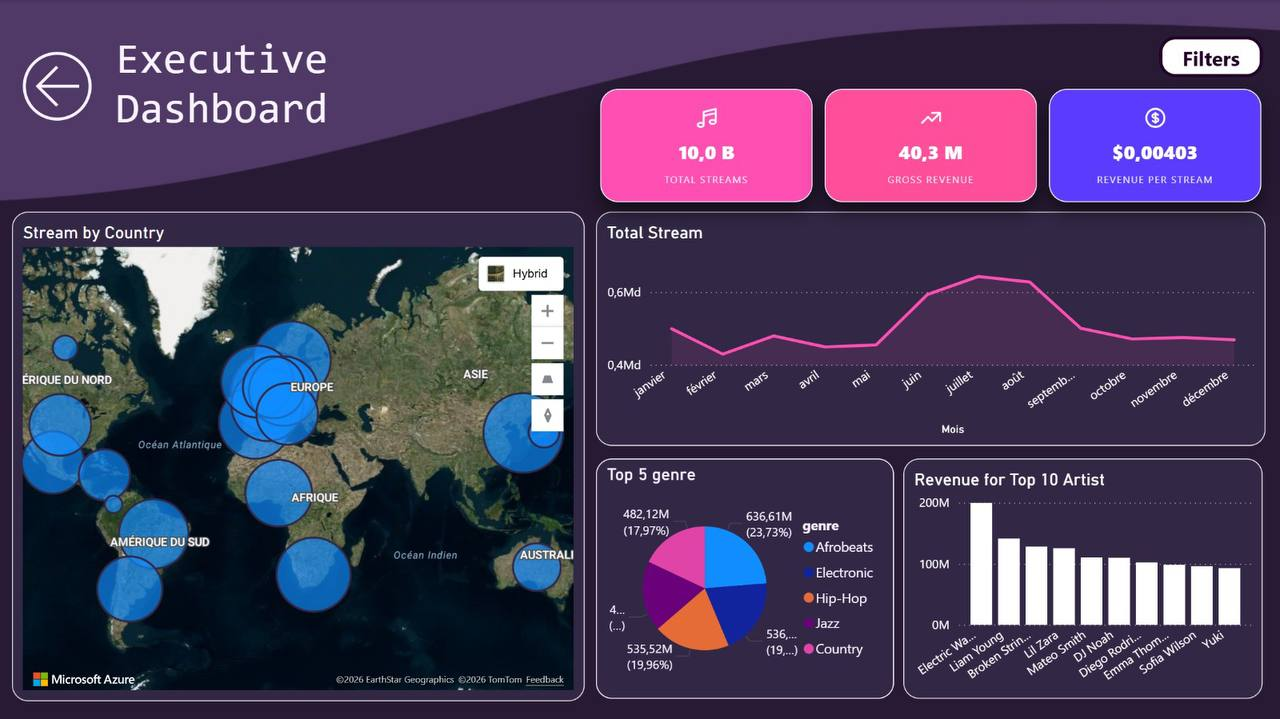

What the dashboard file says about the page in this screenshot:
{"tool":"powerbi","page":{"name":"Executive Dashboard","canvas":[1280,720],"ordinal":1},"visuals":[{"type":"areaChart","title":"Total Stream","fields":{"Category":["Date.Date.Variation.Hiérarchie de dates.Trimestre","Date.Date.Variation.Hiérarchie de dates.Mois","Date.Date.Variation.Hiérarchie de dates.Jour"],"Y":["_Measures.Total Streams"]},"box":[595.2,210.7,667.2,233.5],"z":0},{"type":"clusteredColumnChart","title":"Revenue for Top 10 Artist","fields":{"Category":["daily_streams.artist_name"],"Y":["daily_streams.Total Streams"]},"box":[901.9,456.6,358.2,239.7],"z":1000},{"type":"textbox","box":[112.5,28.8,423.8,113.8],"z":2000},{"type":"htmlContent443BE3AD55E043BF878BED274D3A6865","fields":{"content":["_Measures.Executive Dashboard KPI Cards"]},"box":[572.4,63.2,707.6,168.6],"z":4000},{"type":"actionButton","box":[15.7,42.8,99.9,85.6],"z":5000},{"type":"pieChart","title":"Top 5 genre","fields":{"Y":["_Measures.Total Streams"],"Category":["Tracks.genre"]},"box":[595.1,456.6,296.8,239.7],"z":6000},{"type":"azureMap","title":"Stream by Country","fields":{"Category":["daily_streams.country"],"Size":["_Measures.Total Streams"]},"box":[14,210.7,570.6,488.1],"z":7000},{"type":"actionButton","box":[1156,36.8,103.1,40.5],"z":8000}]}

Visuals, with their boxes in screenshot pixels (x1, y1, x2, y2), scaled from the page's 1280x720 canvas onto the 1280x719 screenshot:
"Total Stream" areaChart: x1=595, y1=210, x2=1262, y2=444
"Revenue for Top 10 Artist" clusteredColumnChart: x1=902, y1=456, x2=1260, y2=695
textbox: x1=112, y1=29, x2=536, y2=142
htmlContent443BE3AD55E043BF878BED274D3A6865 - _Measures.Executive Dashboard KPI Cards: x1=572, y1=63, x2=1279, y2=231
actionButton: x1=16, y1=43, x2=116, y2=128
"Top 5 genre" pieChart: x1=595, y1=456, x2=892, y2=695
"Stream by Country" azureMap: x1=14, y1=210, x2=585, y2=698
actionButton: x1=1156, y1=37, x2=1259, y2=77
